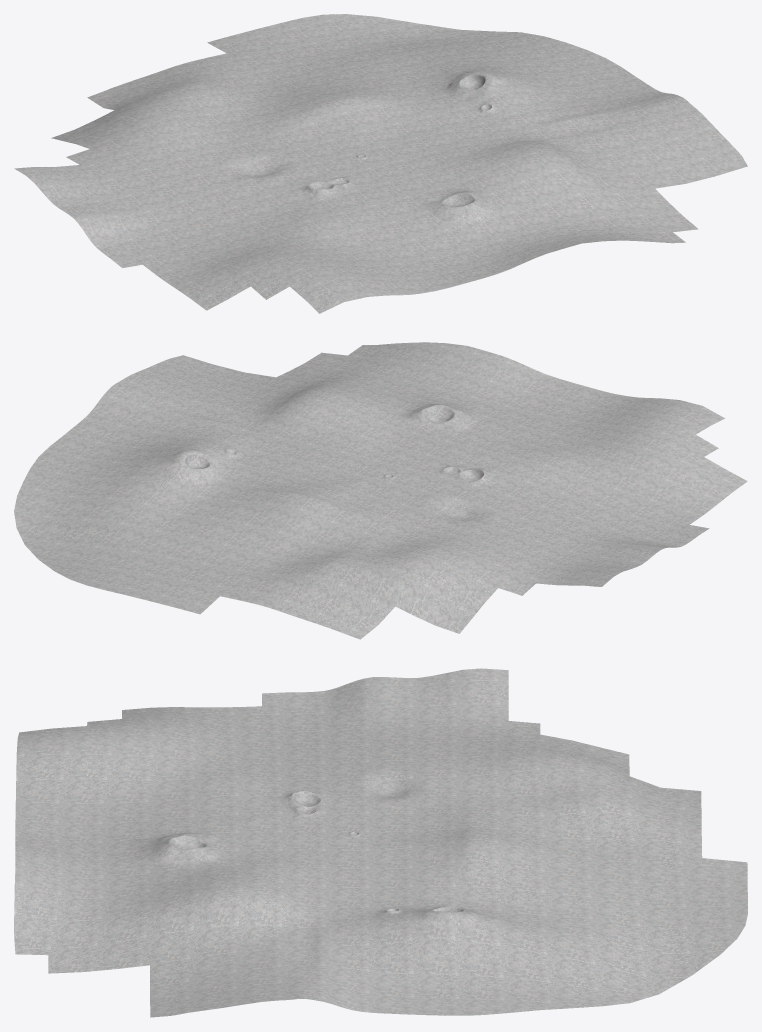
The model's file is moon-ground.glb.
3 views of the same model, one above another, from view 1: azimuth 30°, elevation 25°; view 2: azimuth 150°, elevation 25°; view 3: azimuth 270°, elevation 25° (orthographic). The views are drawn at different scales.
Visible parts, largest first — view 1: Plane.008; view 2: Plane.008; view 3: Plane.008.
Boxes of the visible parts, bbox=[...] form: Plane.008: bbox=[14, 14, 747, 313]; Plane.008: bbox=[14, 342, 747, 639]; Plane.008: bbox=[14, 668, 747, 1017].
Bounding box in the file's own units: 1314 × 85.04 × 1263.
1 material, 1 textured.
